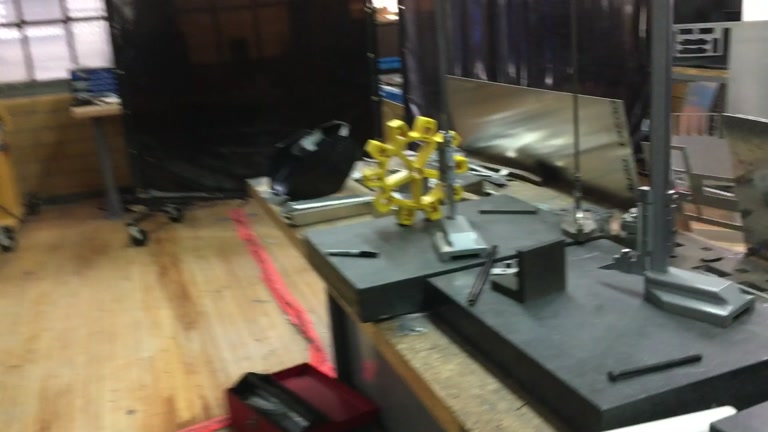gear: (360, 116, 468, 228)
